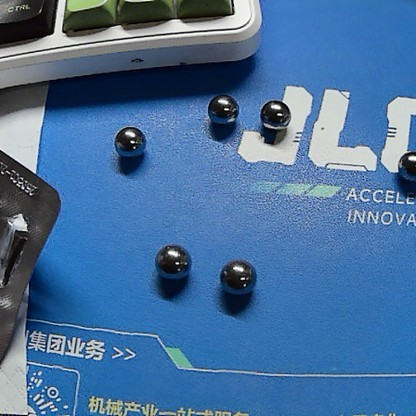ironball: (149, 233, 198, 286), (217, 255, 258, 302), (108, 123, 152, 164), (252, 96, 288, 136), (207, 90, 238, 131), (388, 149, 414, 186)
